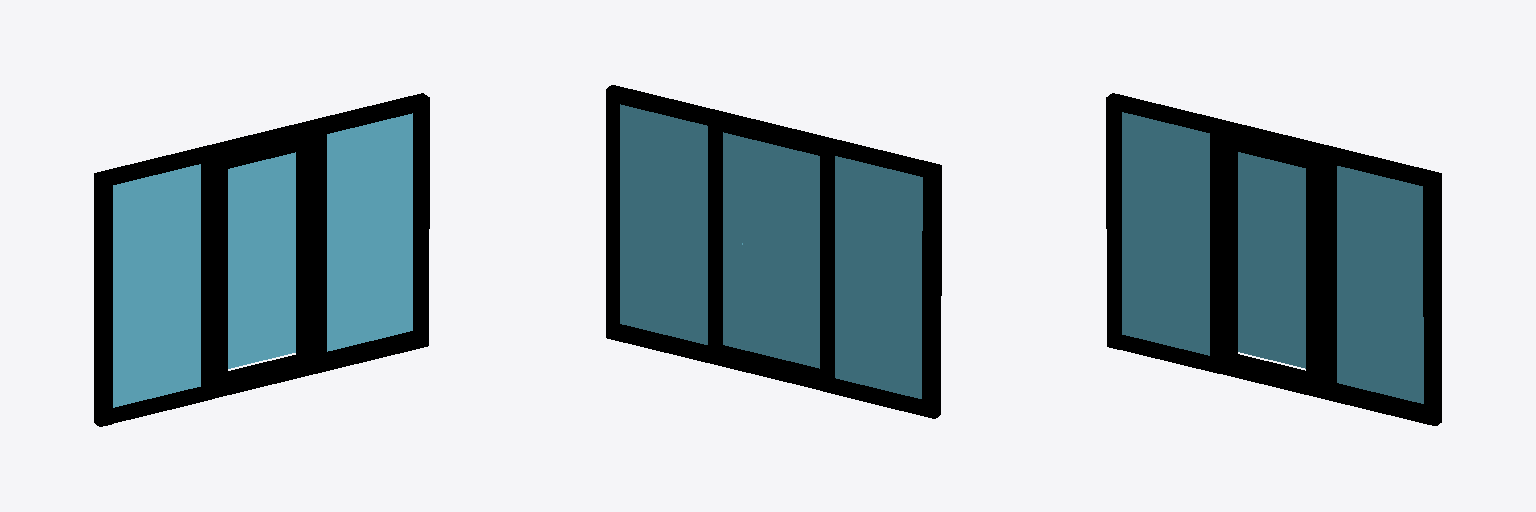
Rendered from window.obj.
The picture shows the model from 3 angles: view 1: azimuth 30°, elevation 25°; view 2: azimuth 150°, elevation 25°; view 3: azimuth 330°, elevation 25°; orthographic projection.
Parts seen in each view (by area): view 1: Plane, Plane_4, Plane_3, Plane_2, Plane_1; view 2: Plane, Plane_2, Plane_4, Plane_3, Plane_1; view 3: Plane, Plane_4, Plane_3, Plane_2, Plane_1.
Part boxes in pixels (x1,y1,x2,y2): Plane: (94, 93, 429, 426); Plane_4: (113, 164, 200, 407); Plane_3: (327, 113, 412, 351); Plane_2: (228, 152, 295, 368); Plane_1: (212, 130, 318, 395); Plane: (606, 85, 941, 418); Plane_2: (723, 132, 819, 368); Plane_4: (835, 156, 922, 398); Plane_3: (620, 104, 707, 344); Plane_1: (719, 123, 822, 382); Plane: (1106, 93, 1441, 425); Plane_4: (1122, 112, 1209, 355); Plane_3: (1337, 166, 1423, 403); Plane_2: (1238, 152, 1305, 368); Plane_1: (1217, 130, 1324, 395).
Bounding box in the file's own units: 7.4 × 5.36 × 0.7689.